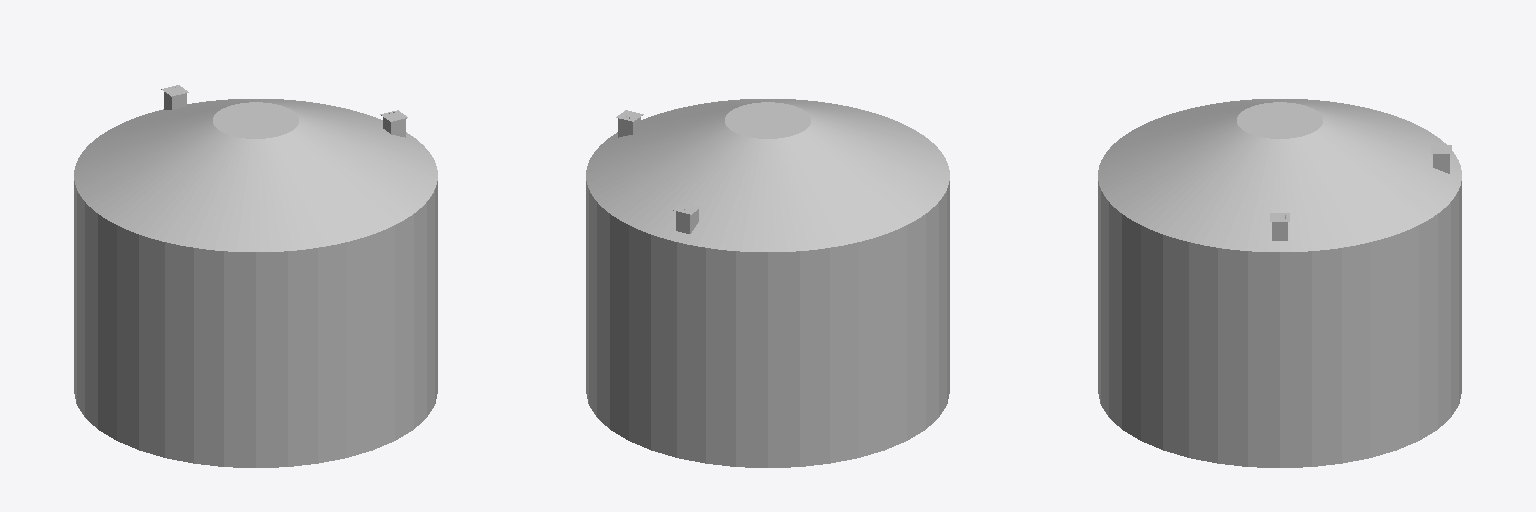
File: biochemicalTank.obj
3 renders of one model, left to right at view 1: azimuth 30°, elevation 25°; view 2: azimuth 150°, elevation 25°; view 3: azimuth 270°, elevation 25°, orthographic.
Parts seen in each view (by area): view 1: 圆锥.1; view 2: 圆锥.1; view 3: 圆锥.1.
Part boxes in pixels (x1,y1,x2,y2): 圆锥.1: (74,85,437,467); 圆锥.1: (586,99,949,467); 圆锥.1: (1098,99,1461,467).
Bounding box in the file's own units: 3733 × 3063 × 3733.